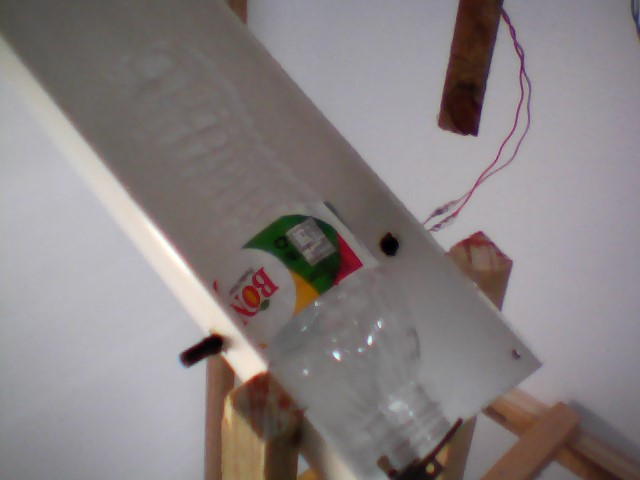plastico: (89, 23, 461, 472)
